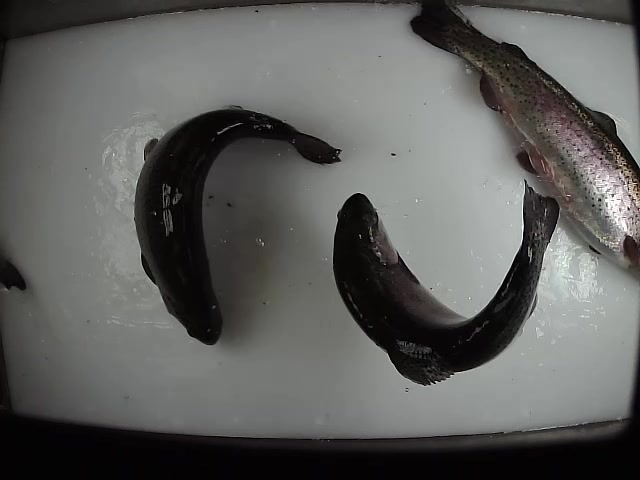Fish: (134, 105, 341, 345), (333, 177, 560, 386)
